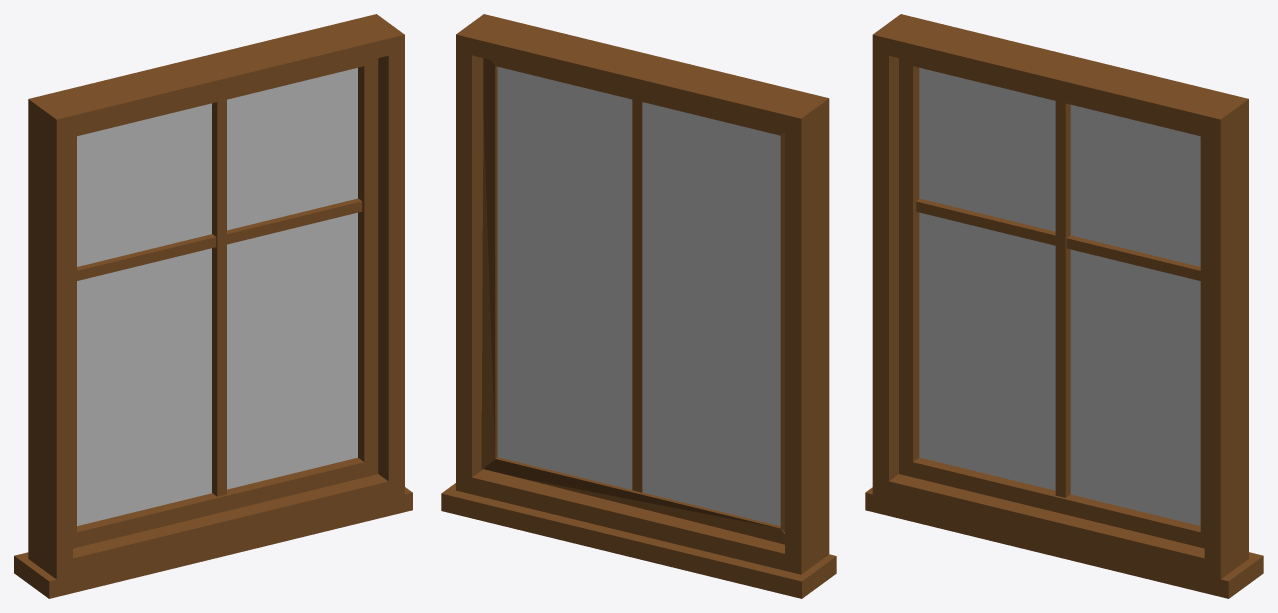
The model's file is Windows3.dae.
3 renders of one model, left to right at view 1: azimuth 30°, elevation 25°; view 2: azimuth 150°, elevation 25°; view 3: azimuth 330°, elevation 25°, orthographic.
Visible parts, largest first — view 1: Glass_001; view 2: Glass_001; view 3: Glass_001.
Boxes of the visible parts, <box> form: Glass_001: <box>14,14,412,598</box>; Glass_001: <box>441,14,836,598</box>; Glass_001: <box>865,14,1263,598</box>.
Bounding box in the file's own units: 1.45 × 0.2416 × 1.82.
